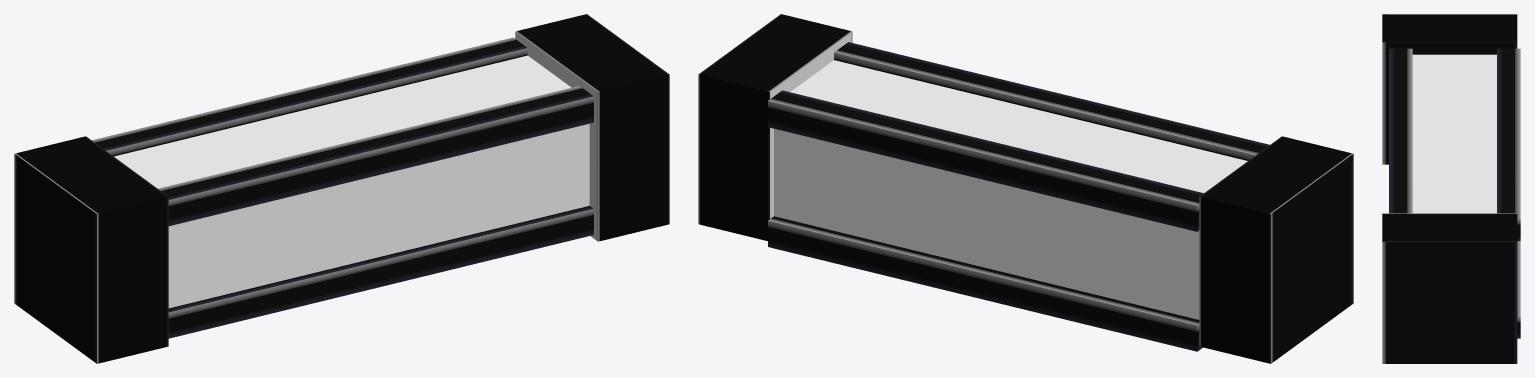
File: PlayerSensor_UV_Corregidas.obj
3 views of the same model, side by side, from view 1: azimuth 30°, elevation 25°; view 2: azimuth 150°, elevation 25°; view 3: azimuth 270°, elevation 25° (orthographic). The views are drawn at different scales.
Parts seen in each view (by area): view 1: Tranparencia, Dtalle2, Izquierda, Derecha; view 2: Tranparencia, Izquierda, Dtalle2, Derecha, Dtalle1; view 3: Derecha, Tranparencia, Dtalle2, Izquierda, Dtalle1.
Boxes of the visible parts, x1=… form: Tranparencia: x1=114, y1=55, x2=589, y2=308; Dtalle2: x1=92, y1=37, x2=593, y2=338; Izquierda: x1=14, y1=136, x2=168, y2=363; Derecha: x1=515, y1=14, x2=669, y2=241; Tranparencia: x1=774, y1=60, x2=1247, y2=319; Izquierda: x1=1199, y1=136, x2=1353, y2=363; Dtalle2: x1=768, y1=42, x2=1269, y2=231; Derecha: x1=698, y1=14, x2=852, y2=240; Dtalle1: x1=768, y1=216, x2=1202, y2=351; Derecha: x1=1382, y1=213, x2=1517, y2=363; Tranparencia: x1=1412, y1=54, x2=1496, y2=213; Dtalle2: x1=1389, y1=48, x2=1520, y2=240; Izquierda: x1=1382, y1=14, x2=1517, y2=164; Dtalle1: x1=1517, y1=241, x2=1520, y2=338.
Bounding box in the file's own units: 1 × 0.2563 × 0.2563.
Materials: 1 (1 with a texture image).
